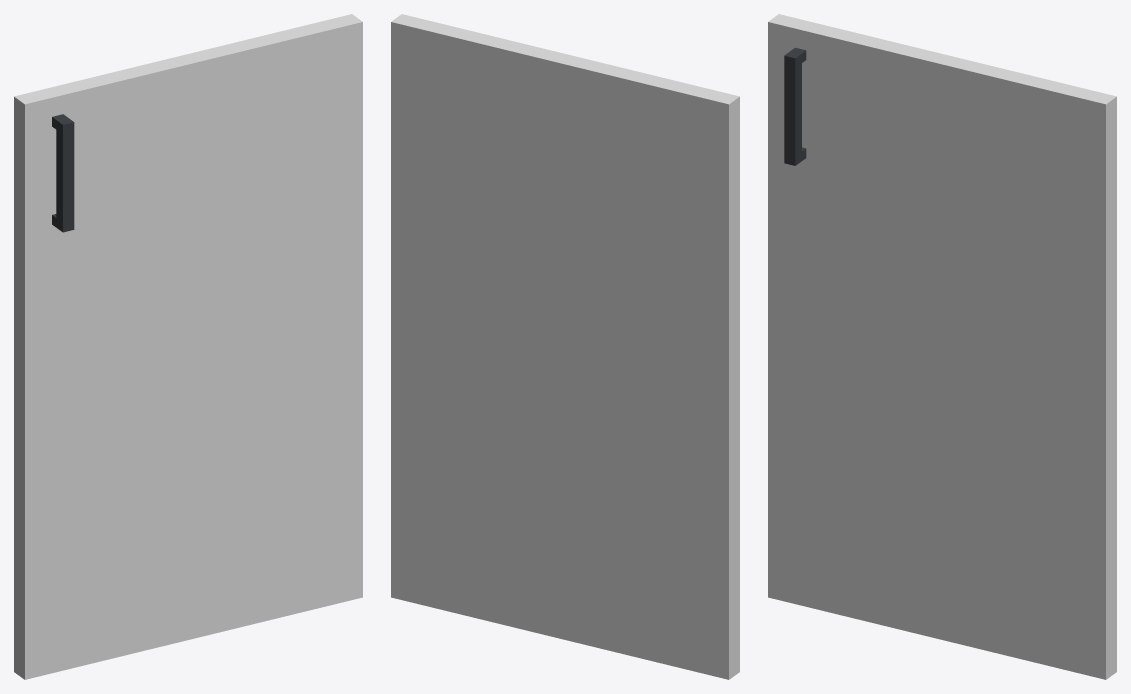
Rendered from BathroomDoor_C1_06.fbx.
3 renders of one model, left to right at view 1: azimuth 30°, elevation 25°; view 2: azimuth 150°, elevation 25°; view 3: azimuth 330°, elevation 25°, orthographic.
Visible parts, largest first — view 1: BathroomDoor_C1_06; view 2: BathroomDoor_C1_06; view 3: BathroomDoor_C1_06.
Boxes of the visible parts, left/top/right/bottom form: BathroomDoor_C1_06: left=14, top=14, right=362, bottom=679; BathroomDoor_C1_06: left=391, top=14, right=739, bottom=679; BathroomDoor_C1_06: left=768, top=14, right=1116, bottom=679.
Size of the model in its own units: 45 by 73.19 by 5.03.
